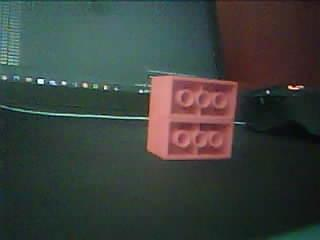lego: (146, 75, 238, 160)
